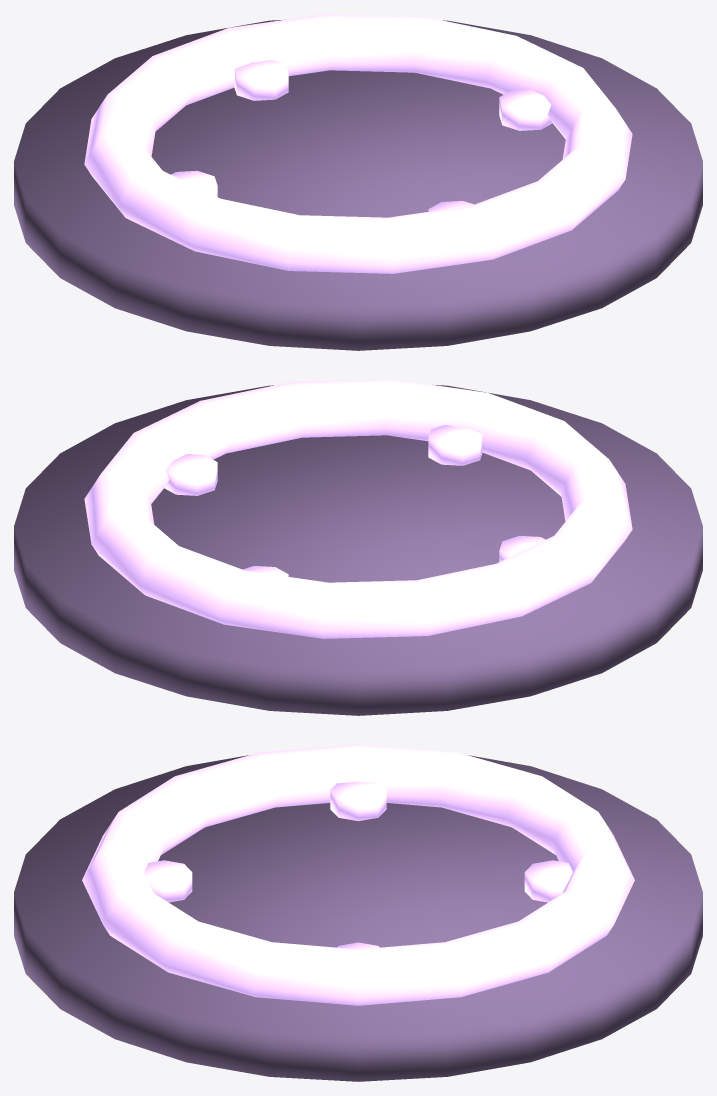
The model's file is wormhole-target-pad.glb.
The picture shows the model from 3 angles, top to bottom: view 1: azimuth 30°, elevation 25°; view 2: azimuth 150°, elevation 25°; view 3: azimuth 270°, elevation 25°; orthographic projection.
Parts seen in each view (by area): view 1: mesh_wormhole_target_body, mesh_wormhole_target_accent; view 2: mesh_wormhole_target_body, mesh_wormhole_target_accent; view 3: mesh_wormhole_target_body, mesh_wormhole_target_accent.
Part boxes in pixels (<box>): mesh_wormhole_target_body: <box>14,19,702,350</box>; mesh_wormhole_target_accent: <box>84,14,632,273</box>; mesh_wormhole_target_body: <box>14,384,702,715</box>; mesh_wormhole_target_accent: <box>84,379,632,638</box>; mesh_wormhole_target_body: <box>14,755,702,1081</box>; mesh_wormhole_target_accent: <box>82,744,634,1005</box>.
Bounding box in the file's own units: 0.78 × 0.1029 × 0.78.
